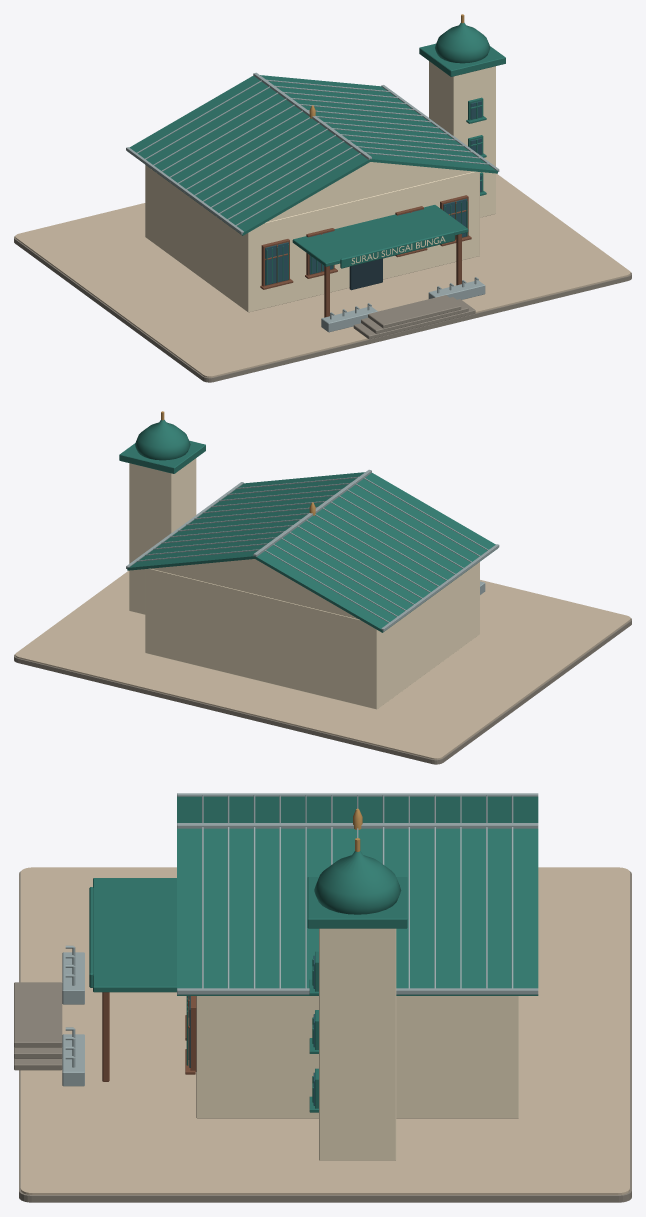
The picture shows the model from 3 angles, top to bottom: view 1: azimuth 30°, elevation 25°; view 2: azimuth 150°, elevation 25°; view 3: azimuth 270°, elevation 25°; orthographic projection. The views are drawn at different scales.
Parts seen in each view (by area): view 1: Prayer Hall, Courtyard, Minaret, Porch, Entrance Steps, Ablution Area, Vent Screens; view 2: Prayer Hall, Courtyard, Minaret; view 3: Courtyard, Prayer Hall, Minaret, Porch, Entrance Steps, Ablution Area.
Part boxes in pixels (x1=…): Prayer Hall: x1=126, y1=72, x2=499, y2=312; Courtyard: x1=14, y1=173, x2=631, y2=382; Minaret: x1=419, y1=14, x2=505, y2=217; Porch: x1=292, y1=205, x2=468, y2=317; Entrance Steps: x1=353, y1=295, x2=475, y2=339; Ablution Area: x1=321, y1=277, x2=485, y2=332; Vent Screens: x1=266, y1=201, x2=467, y2=284; Prayer Hall: x1=126, y1=469, x2=499, y2=709; Courtyard: x1=14, y1=570, x2=631, y2=764; Minaret: x1=119, y1=411, x2=205, y2=614; Courtyard: x1=19, y1=867, x2=631, y2=1202; Prayer Hall: x1=177, y1=793, x2=538, y2=1118; Minaret: x1=307, y1=838, x2=407, y2=1160; Porch: x1=89, y1=878, x2=176, y2=1081; Entrance Steps: x1=14, y1=982, x2=62, y2=1070; Ablution Area: x1=62, y1=945, x2=84, y2=1086.
Bounding box in the file's own units: 24 × 10.75 × 19.15.
